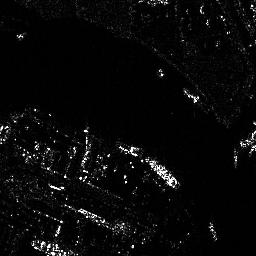ship: (147, 157, 179, 188)
